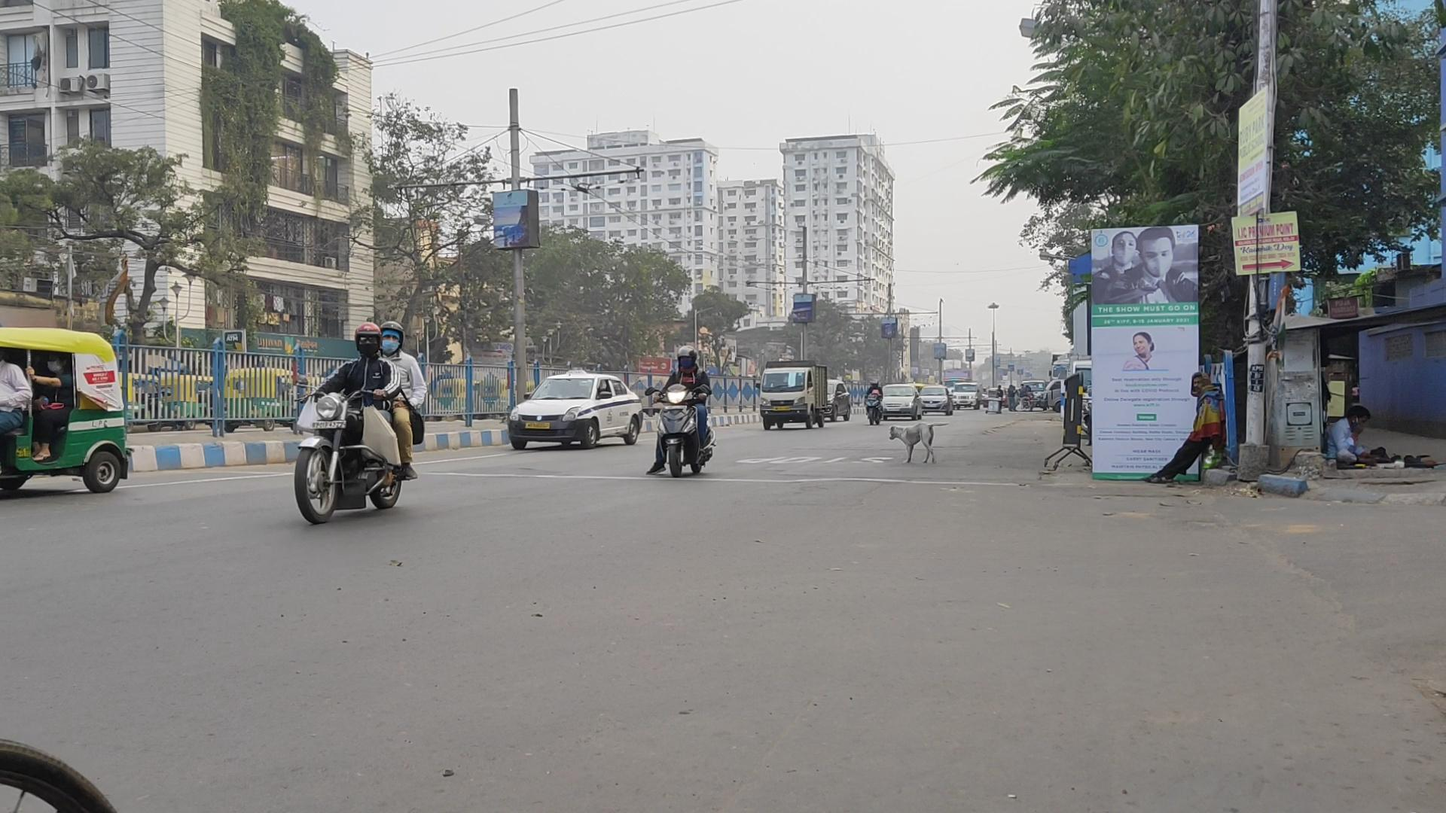Auto: (1, 324, 135, 498)
bike: (294, 320, 427, 523), (647, 345, 718, 478), (864, 379, 883, 425)
car: (509, 370, 644, 452), (880, 383, 923, 422), (825, 380, 850, 423), (920, 385, 953, 416), (1020, 378, 1048, 411)
van: (758, 358, 829, 432), (952, 381, 982, 410)
